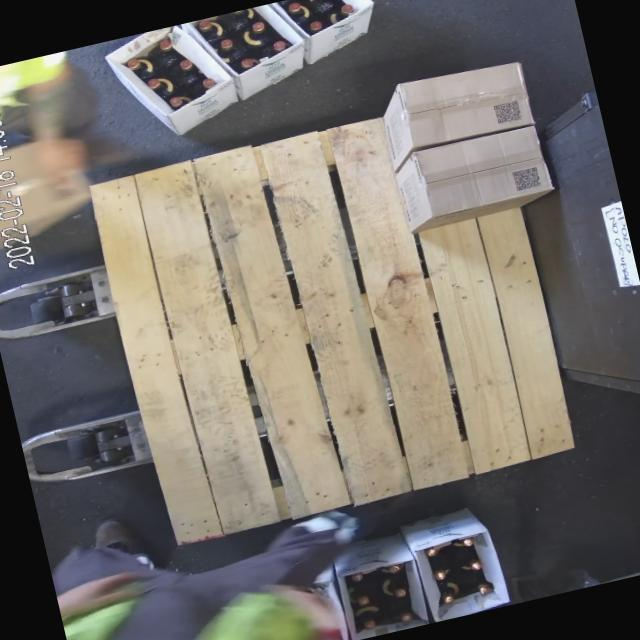box: (395, 56, 530, 152), (412, 125, 550, 218)
